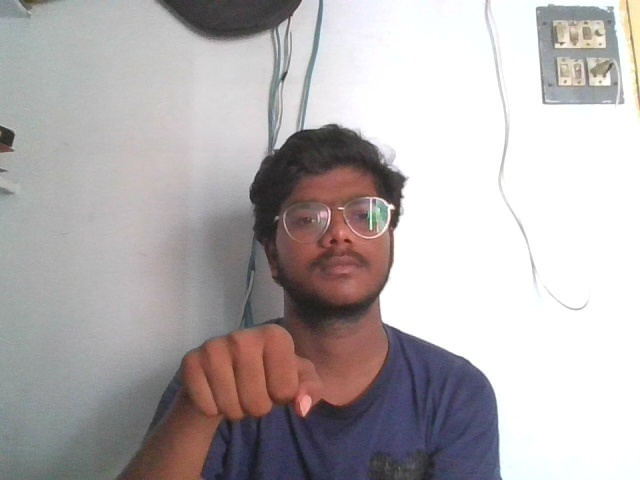Yes: (167, 316, 326, 422)
